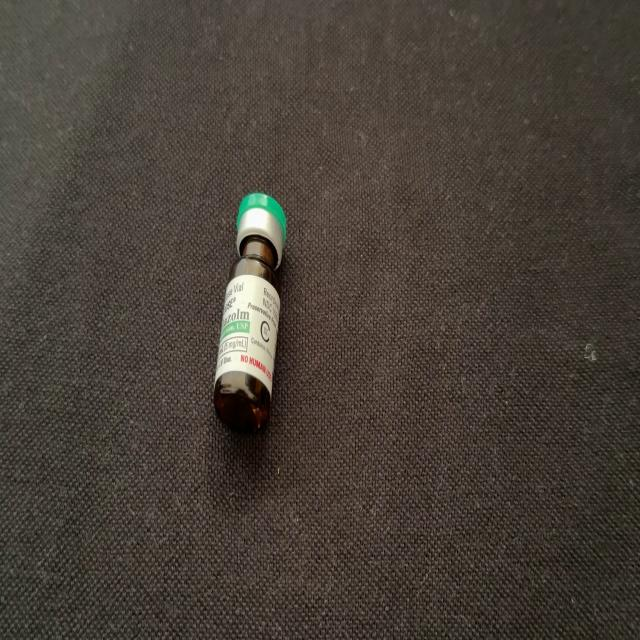midazolm: (214, 196, 286, 430)
